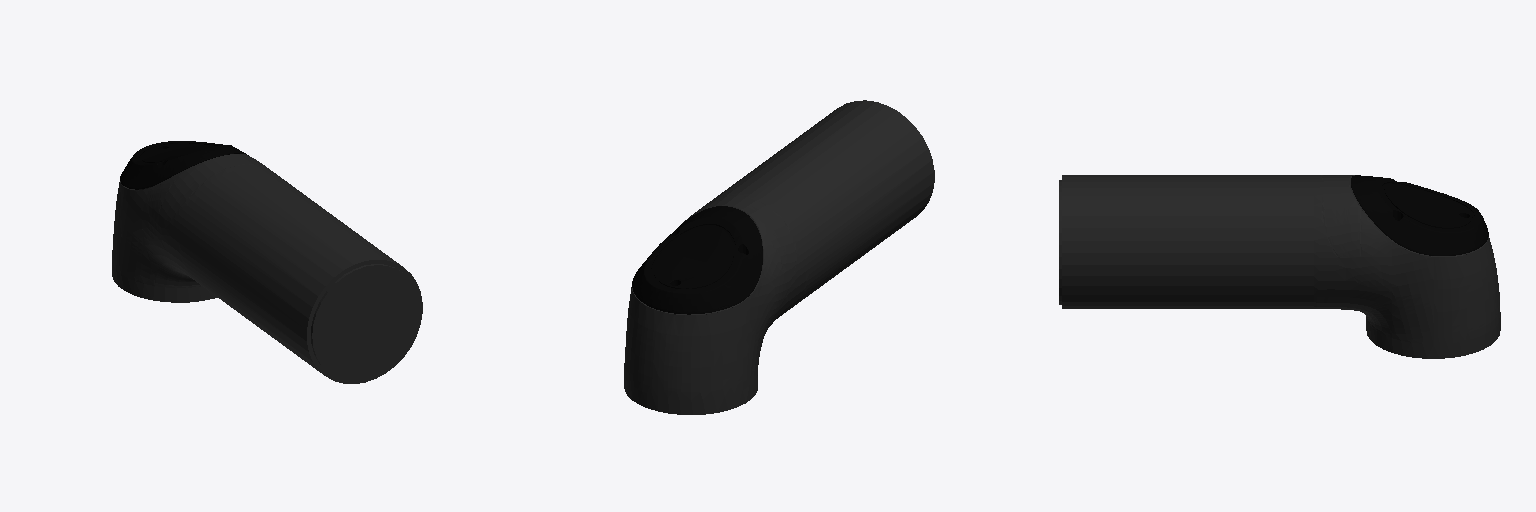
The picture shows the model from 3 angles: view 1: azimuth 30°, elevation 25°; view 2: azimuth 150°, elevation 25°; view 3: azimuth 270°, elevation 25°; orthographic projection.
Visible parts, largest first — view 1: Body1, Body2; view 2: Body1, Body2; view 3: Body1, Body2.
Part boxes in pixels (x1,y1,x2,y2): Body1: (112,154,422,383); Body2: (120,141,248,189); Body1: (624,100,934,414); Body2: (632,206,762,314); Body1: (1059,175,1500,358); Body2: (1351,175,1488,255).
Size of the model in its own units: 0.086 by 0.1056 by 0.2828.